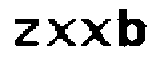b: (113, 4, 150, 52)
x: (45, 14, 78, 50), (79, 16, 114, 49)
z: (8, 16, 42, 50)
